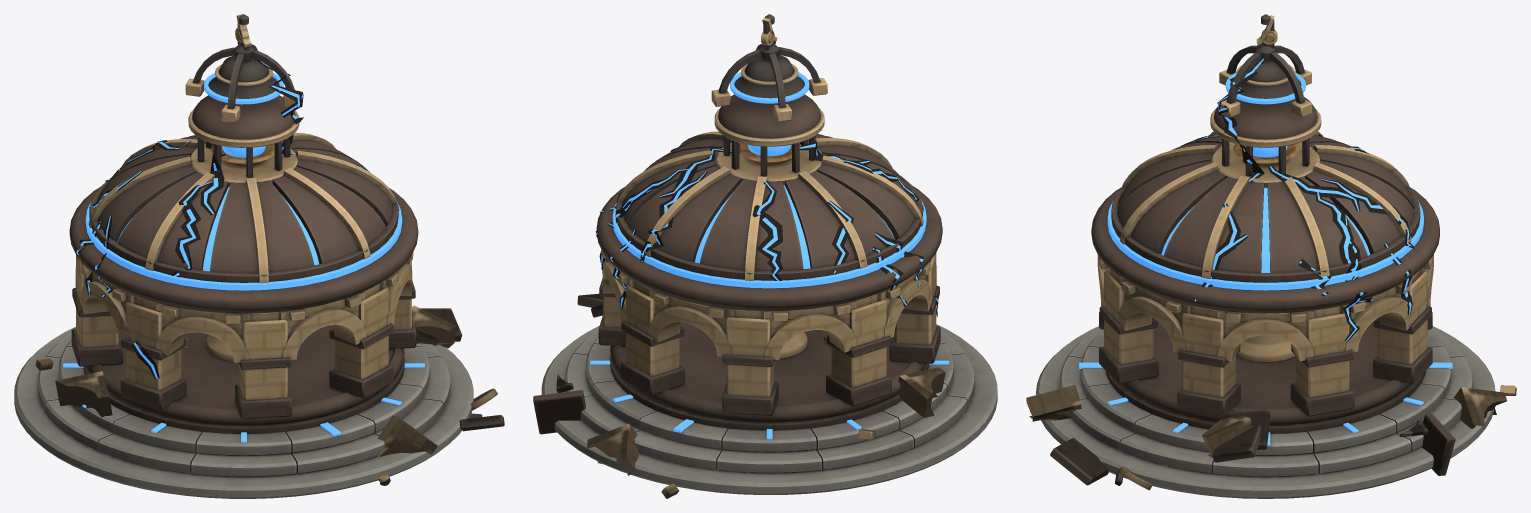
File: hourbell_serenade.glb
3 views of the same model, side by side, from view 1: azimuth 30°, elevation 25°; view 2: azimuth 150°, elevation 25°; view 3: azimuth 270°, elevation 25° (orthographic).
Visible parts, largest first — view 1: hourbell_serenade_upper, hourbell_serenade_base, hourbell_serenade_ruin, hourbell_serenade_glow.001, hourbell_serenade_dmg1, hourbell_serenade_dmg2, hourbell_serenade_chip2, hourbell_serenade_chip1, hourbell_serenade_glow_base; view 2: hourbell_serenade_upper, hourbell_serenade_base, hourbell_serenade_ruin, hourbell_serenade_dmg1, hourbell_serenade_glow.001, hourbell_serenade_dmg2, hourbell_serenade_chip2, hourbell_serenade_chip1, hourbell_serenade_glow_base; view 3: hourbell_serenade_upper, hourbell_serenade_base, hourbell_serenade_ruin, hourbell_serenade_glow.001, hourbell_serenade_dmg1, hourbell_serenade_dmg2, hourbell_serenade_chip1, hourbell_serenade_glow_base.
Boxes of the visible parts, bbox=[...] form: hourbell_serenade_upper: bbox=[69, 28, 418, 433]; hourbell_serenade_base: bbox=[14, 326, 473, 498]; hourbell_serenade_ruin: bbox=[35, 305, 504, 485]; hourbell_serenade_glow.001: bbox=[85, 72, 402, 290]; hourbell_serenade_dmg1: bbox=[75, 92, 303, 295]; hourbell_serenade_dmg2: bbox=[89, 58, 418, 378]; hourbell_serenade_chip2: bbox=[81, 104, 398, 324]; hourbell_serenade_chip1: bbox=[162, 14, 253, 317]; hourbell_serenade_glow_base: bbox=[63, 363, 424, 442]; hourbell_serenade_upper: bbox=[596, 31, 942, 430]; hourbell_serenade_base: bbox=[541, 324, 997, 494]; hourbell_serenade_ruin: bbox=[533, 293, 945, 498]; hourbell_serenade_dmg1: bbox=[599, 140, 923, 306]; hourbell_serenade_glow.001: bbox=[612, 72, 926, 288]; hourbell_serenade_dmg2: bbox=[595, 131, 938, 317]; hourbell_serenade_chip2: bbox=[709, 78, 900, 318]; hourbell_serenade_chip1: bbox=[711, 14, 787, 321]; hourbell_serenade_glow_base: bbox=[590, 360, 949, 439]; hourbell_serenade_upper: bbox=[1091, 29, 1439, 433]; hourbell_serenade_base: bbox=[1036, 326, 1495, 498]; hourbell_serenade_ruin: bbox=[1026, 328, 1516, 490]; hourbell_serenade_glow.001: bbox=[1107, 72, 1423, 290]; hourbell_serenade_dmg1: bbox=[1181, 105, 1415, 296]; hourbell_serenade_dmg2: bbox=[1193, 57, 1412, 341]; hourbell_serenade_chip1: bbox=[1256, 14, 1311, 323]; hourbell_serenade_glow_base: bbox=[1079, 362, 1452, 445].
Bounding box in the file's own units: 5.67 × 5.33 × 6.03.
Materials: 4 (1 with a texture image).
